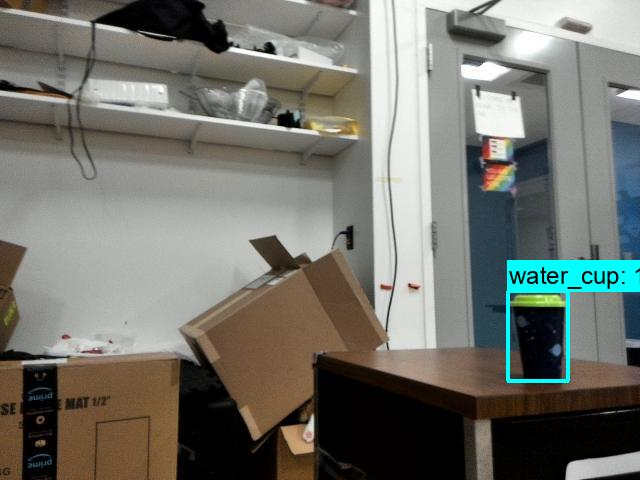water_cup: (507, 292, 570, 377)
